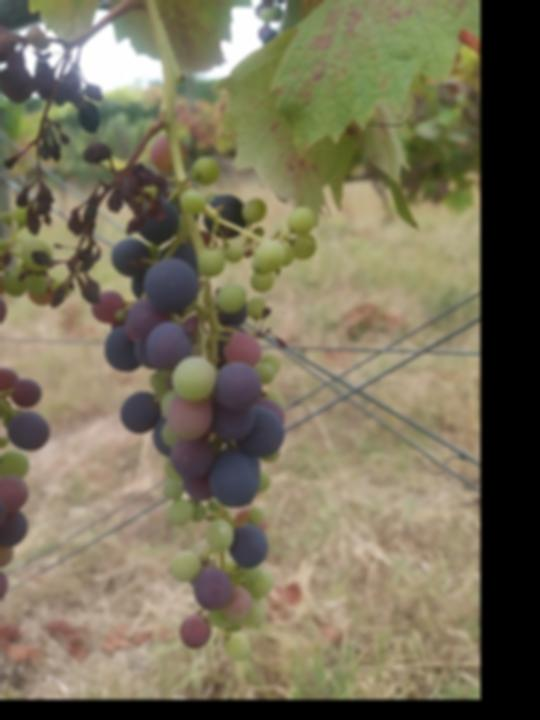grape: (31, 133, 323, 670), (0, 20, 105, 237)
